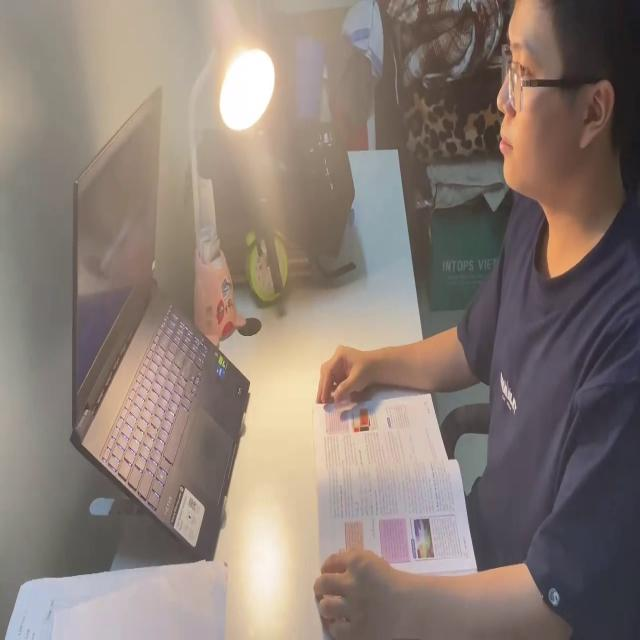book: (303, 378, 476, 591), (6, 546, 235, 640)
laptop: (59, 78, 251, 565)
student: (312, 0, 640, 640)
